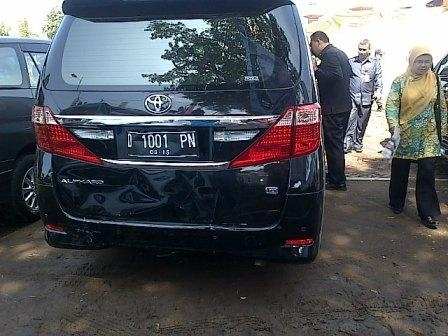plate: (127, 131, 197, 157)
